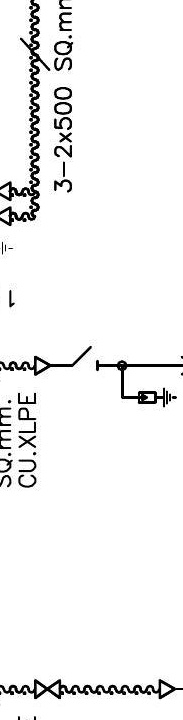terminator_single: (33, 354, 52, 377), (157, 677, 176, 700)
terminator_splicing_kits: (33, 679, 61, 700)
